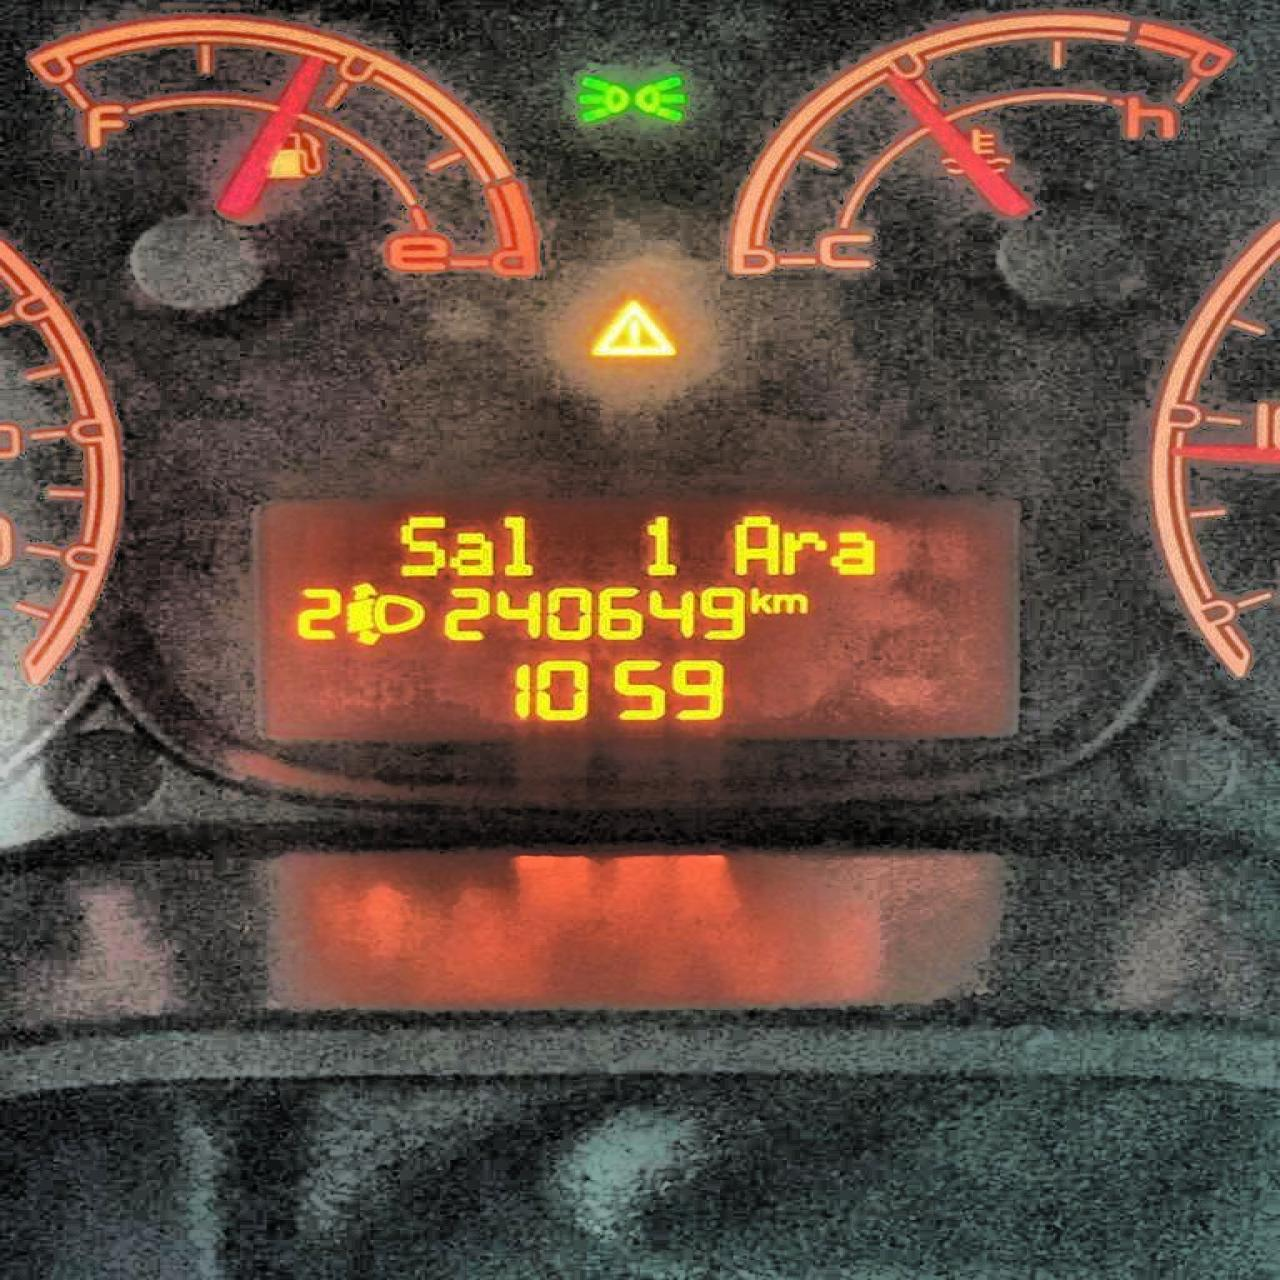0: (532, 658, 591, 722), (543, 583, 592, 641)
1: (641, 509, 686, 578), (510, 659, 533, 723)
2: (437, 585, 489, 644), (293, 584, 342, 642)
4: (491, 585, 542, 640), (645, 585, 695, 638)
5: (611, 656, 667, 722)
6: (599, 584, 644, 639)
9: (669, 656, 723, 722), (696, 584, 743, 642)
X: (399, 513, 449, 578), (730, 515, 778, 576), (498, 511, 533, 577), (778, 527, 826, 574), (829, 527, 874, 574), (450, 529, 493, 577), (771, 591, 809, 615), (748, 585, 771, 614)
odometer: (248, 486, 1040, 756)
